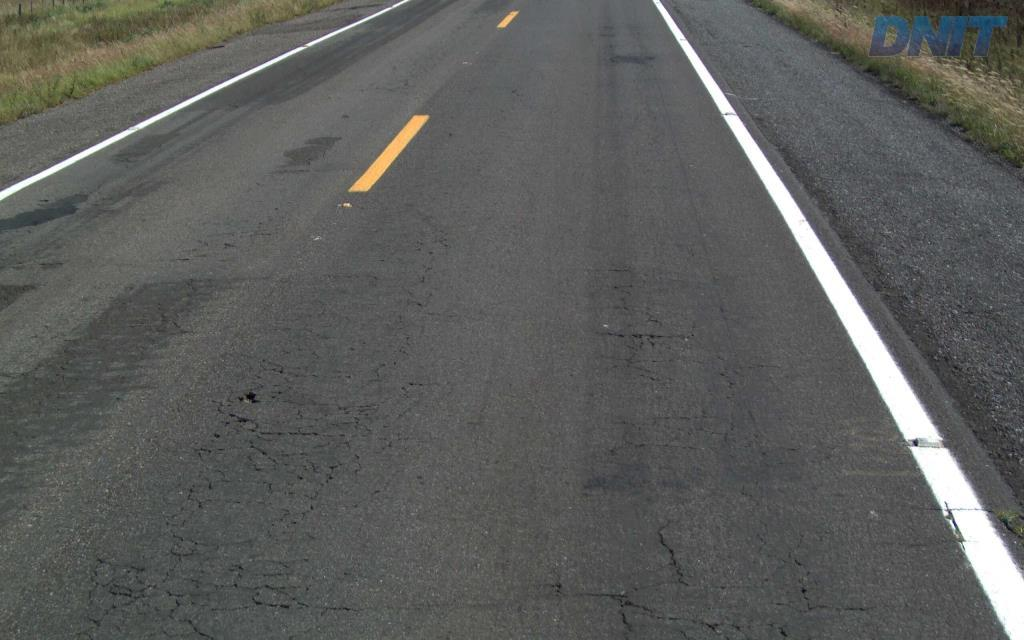crack: (100, 561, 159, 607), (656, 519, 692, 586), (575, 583, 648, 608), (582, 462, 636, 494)
